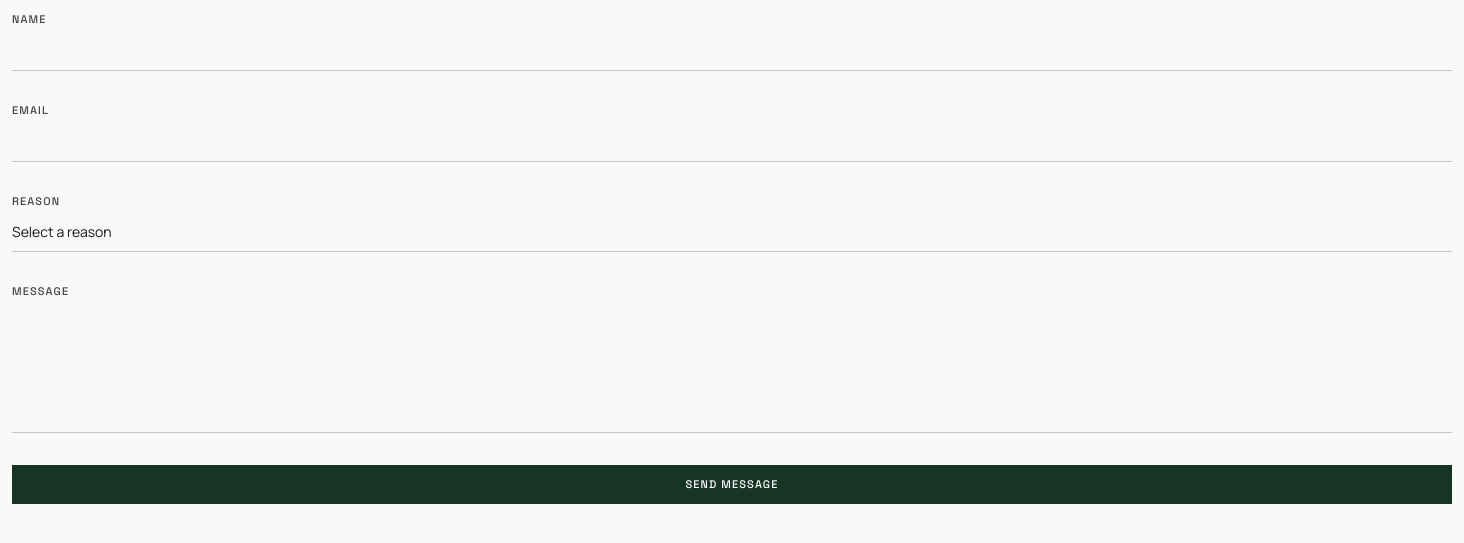
Test: ContactForm › shows inline error below submit button on server failure
Type "Nikhil" into the field labelled "Name". click: (732, 51)
box: [12,31,1452,71]
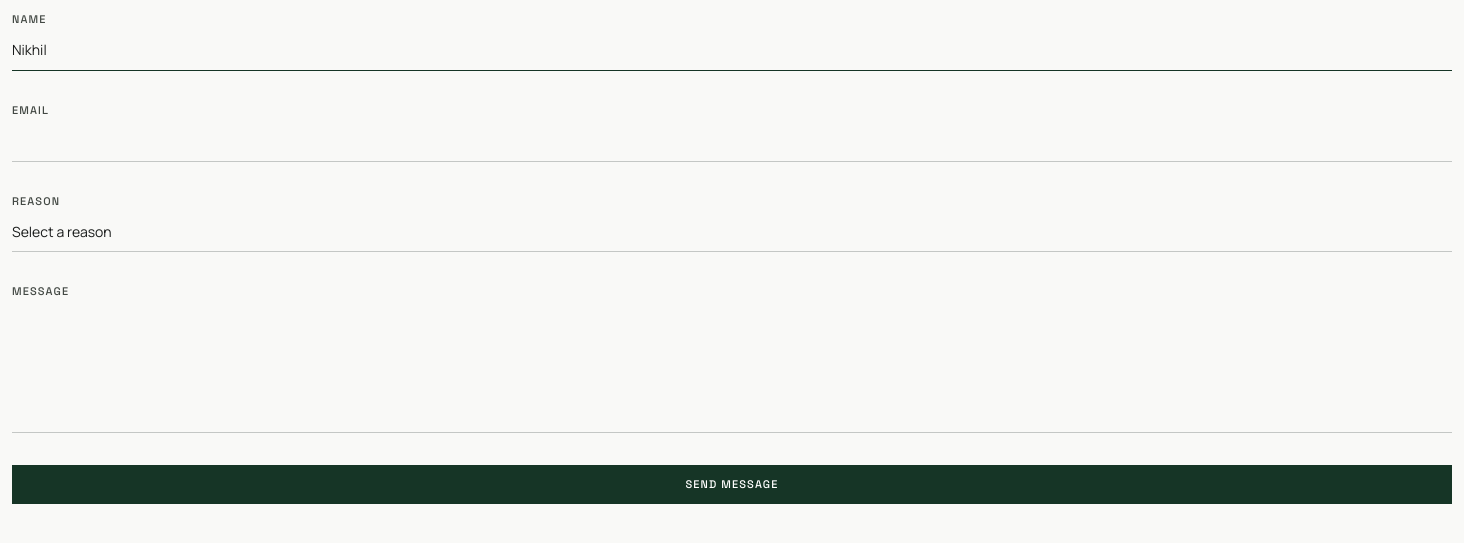
Type "nikhil@example.com" into the field labelled "Email". click: (732, 142)
box: [12,122,1452,162]
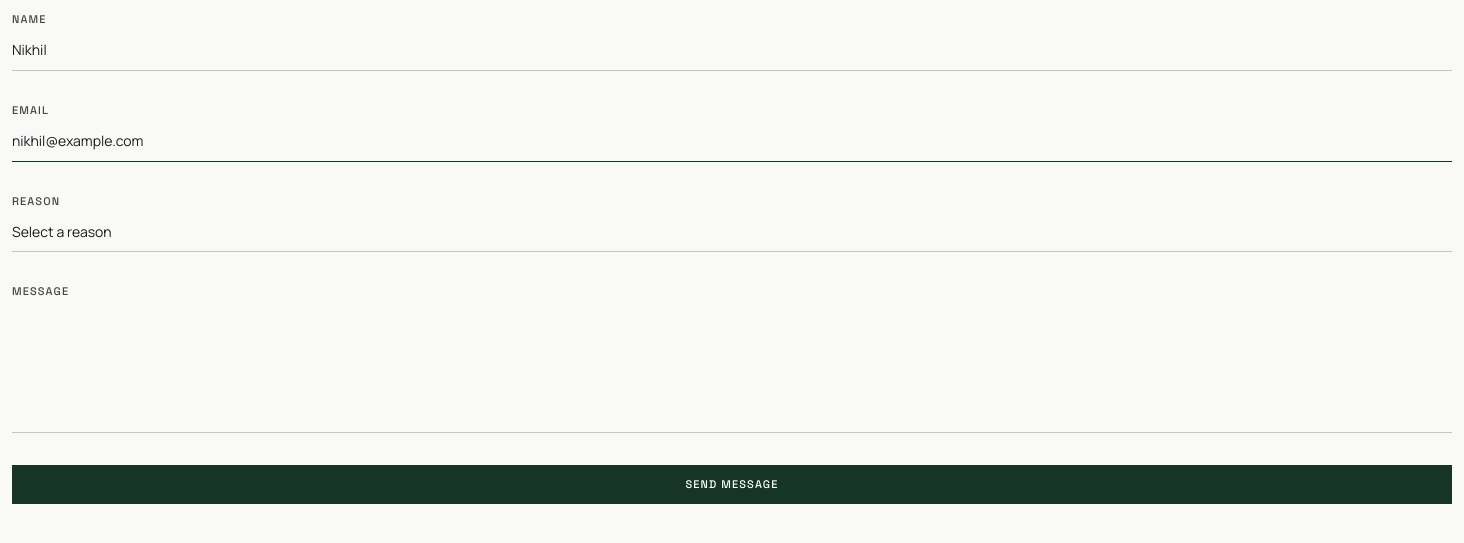
Select "Just Saying Hi" in the dropdown labelled "Reason". click: (732, 233)
box: [12,213,1452,252]
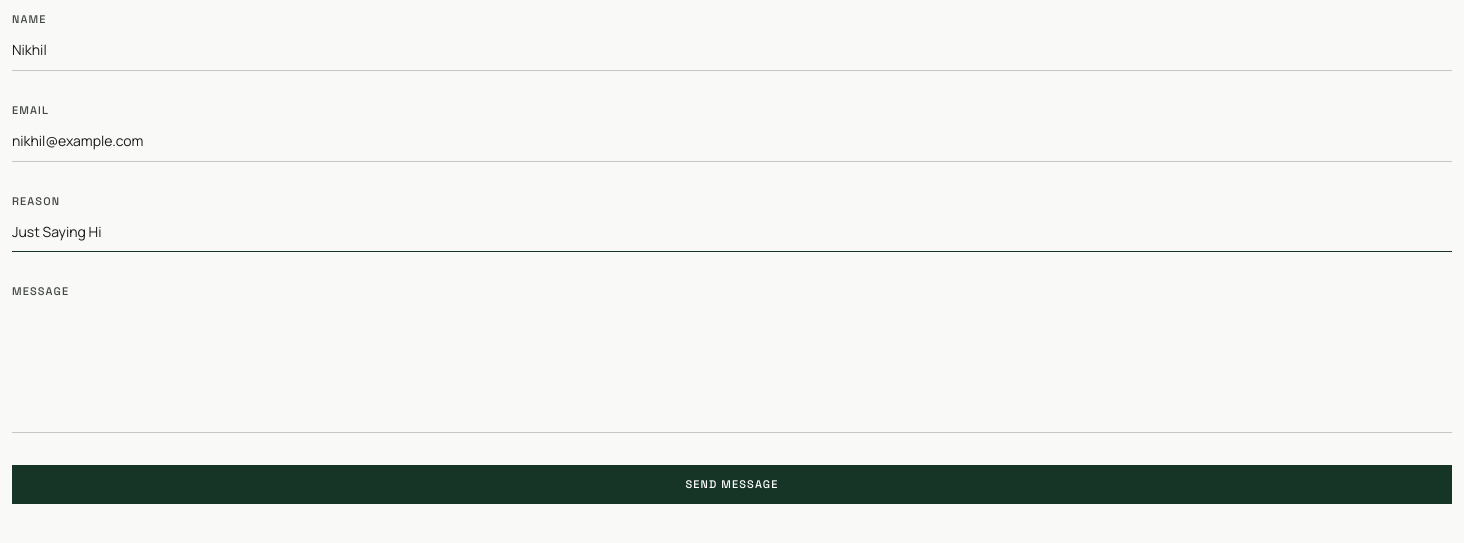
Type "Hello there!" into the text box labelled "Message". click: (732, 368)
box: [12,304,1452,433]
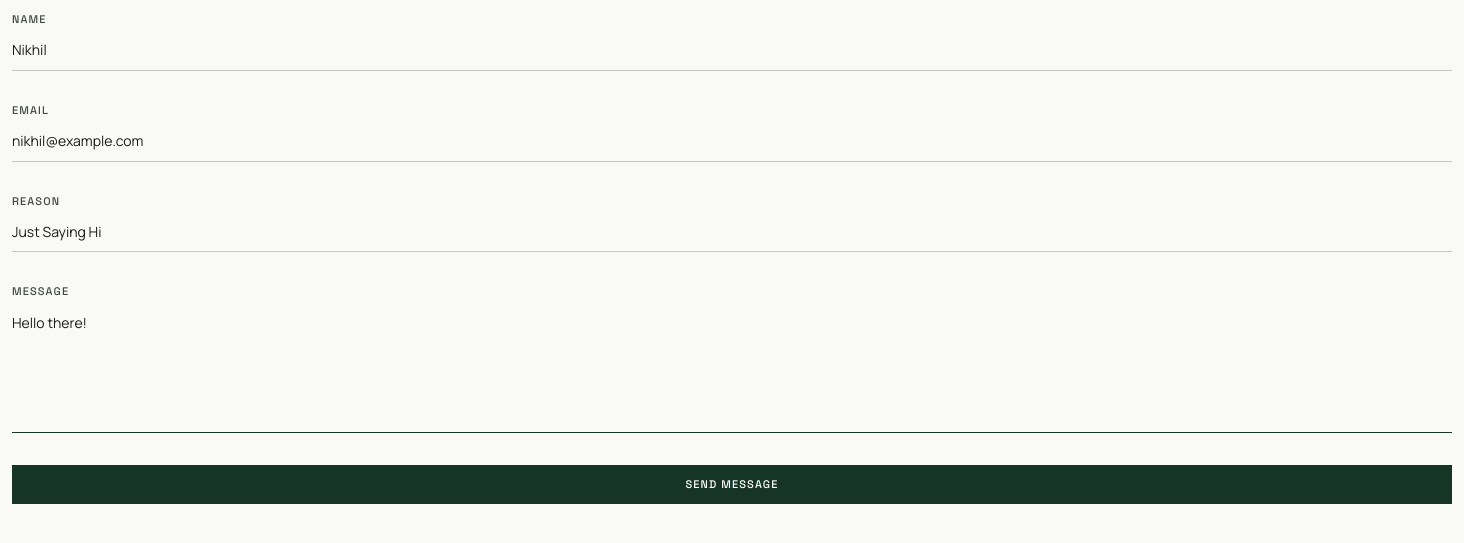
Click the button "Send Message". click: (732, 484)
box: [12,465,1452,504]
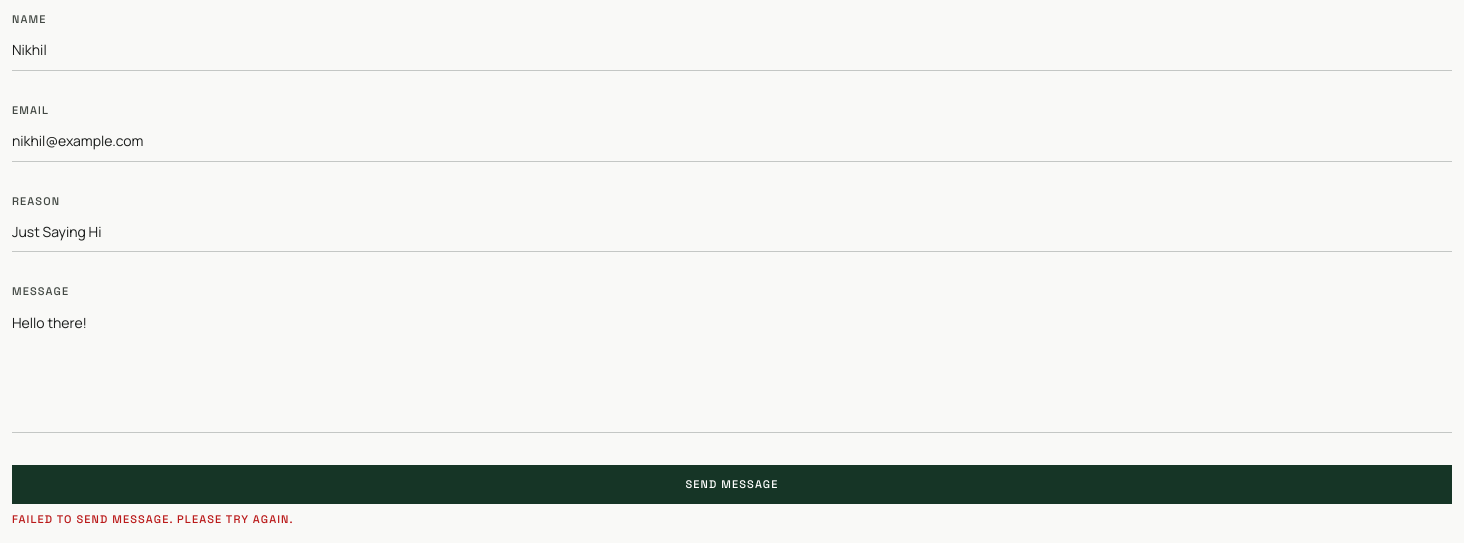
Result: the text "Failed to send message. Please try again." is shown at [12,512,294,526]
